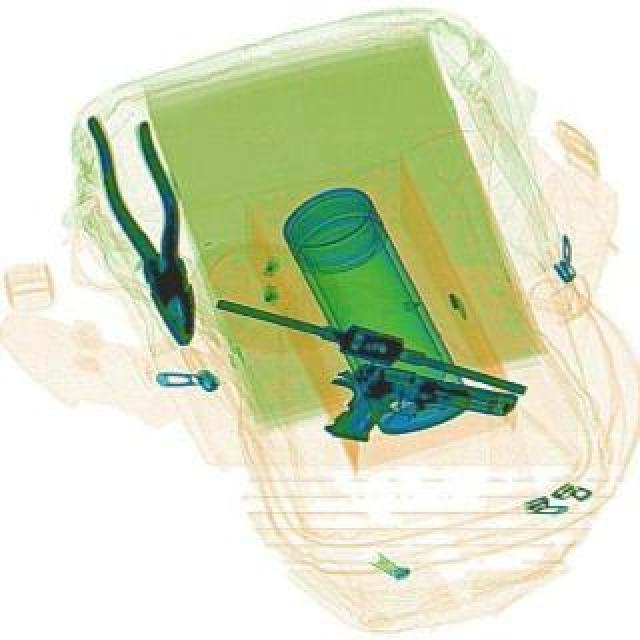gun: (314, 354, 518, 470)
wrench: (84, 100, 216, 352)
